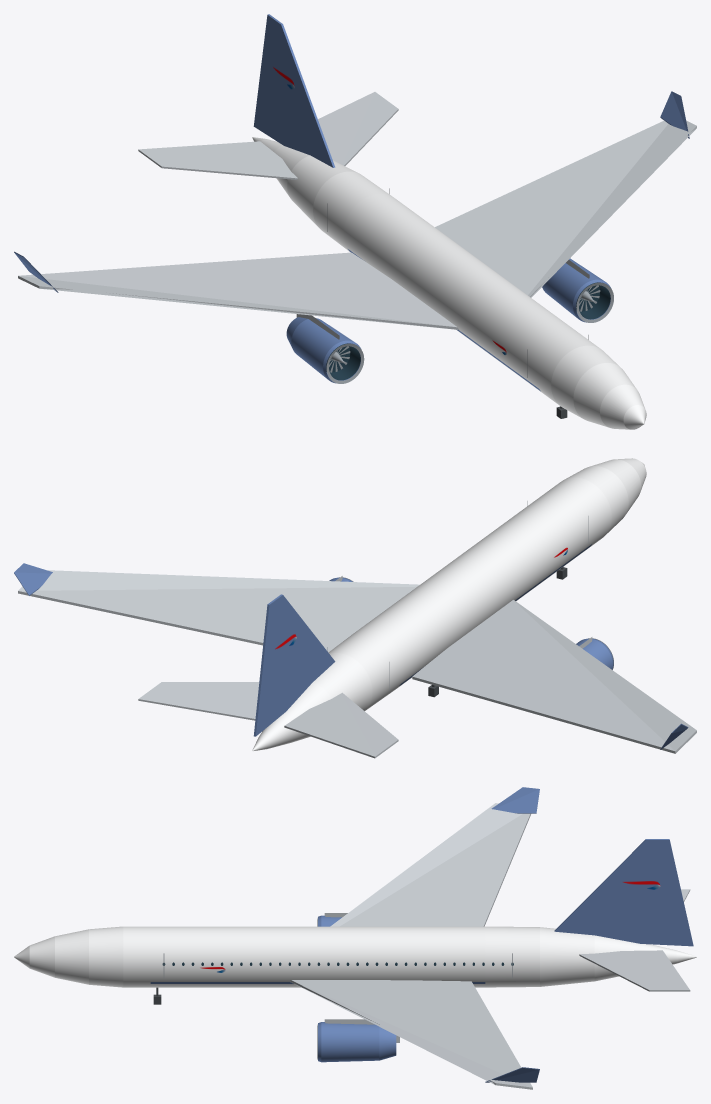
File: a350-BAW-v3.gltf
3 views of the same model, one above another, from view 1: azimuth 30°, elevation 25°; view 2: azimuth 150°, elevation 25°; view 3: azimuth 270°, elevation 25° (orthographic). The views are drawn at different scales.
Parts seen in each view (by area): view 1: object 1; view 2: object 1; view 3: object 1.
Boxes of the visible parts, box(x1,y1,x2,y2) form: object 1: box(14, 14, 696, 429); object 1: box(14, 458, 696, 758); object 1: box(14, 787, 696, 1089).
Size of the model in its own units: 65 by 18.14 by 67.
Materials: 8 (1 with a texture image).
